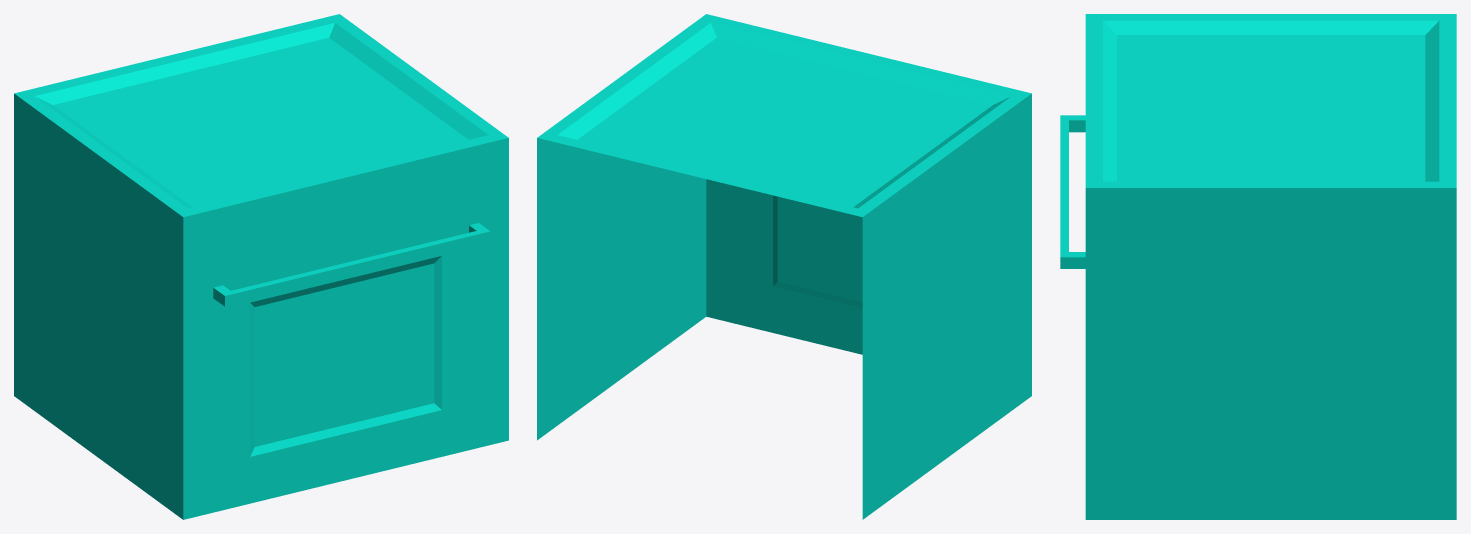
Rendered from kitchen_Cooker.fbx.
3 renders of one model, left to right at view 1: azimuth 30°, elevation 25°; view 2: azimuth 150°, elevation 25°; view 3: azimuth 270°, elevation 25°, orthographic. The views are drawn at different scales.
Parts seen in each view (by area): view 1: kitchen_Cooker; view 2: kitchen_Cooker; view 3: kitchen_Cooker.
Part boxes in pixels (x1,y1,x2,y2): kitchen_Cooker: (14,14,508,519); kitchen_Cooker: (537,14,1031,519); kitchen_Cooker: (1060,14,1456,519).
Bounding box in the file's own units: 4.71 × 4.19 × 4.53.
